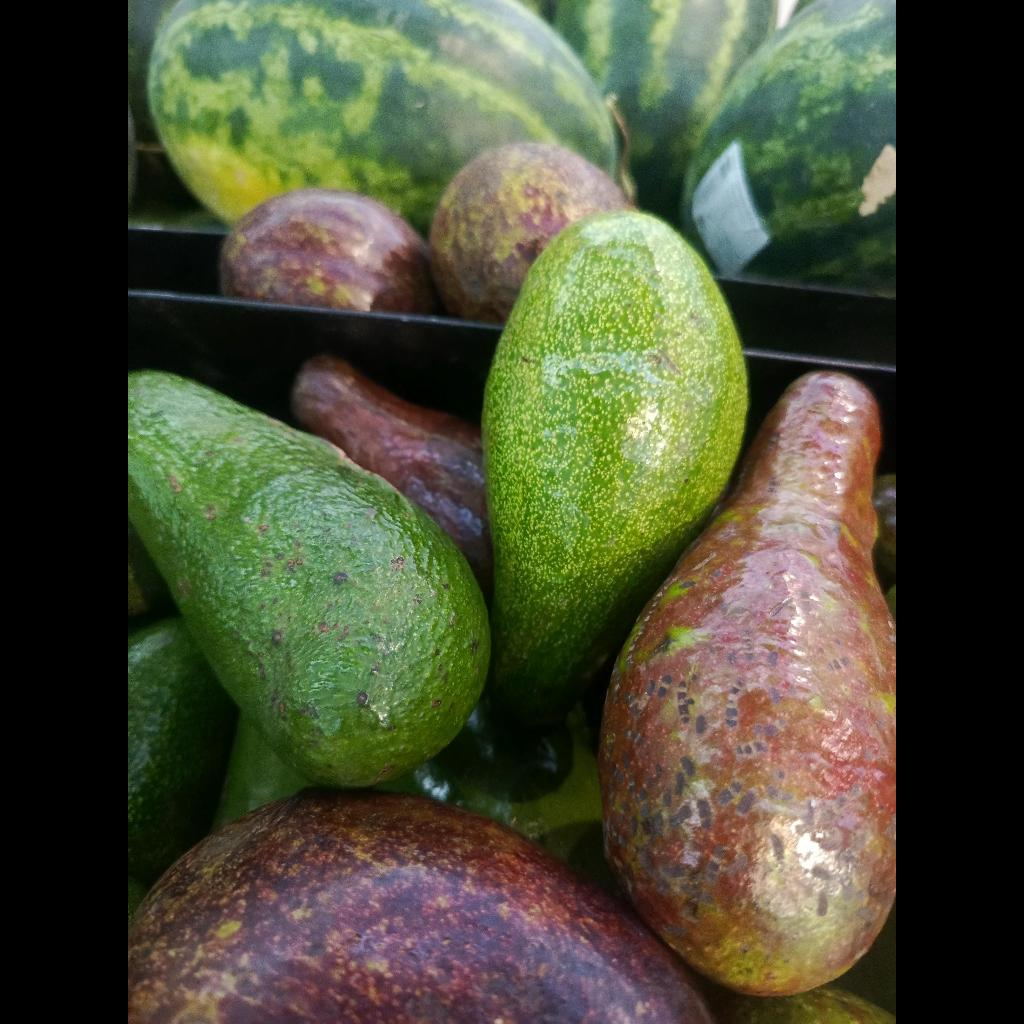healthy: (482, 211, 748, 725)
scab: (598, 372, 896, 996), (128, 371, 490, 787), (128, 789, 711, 1024)
